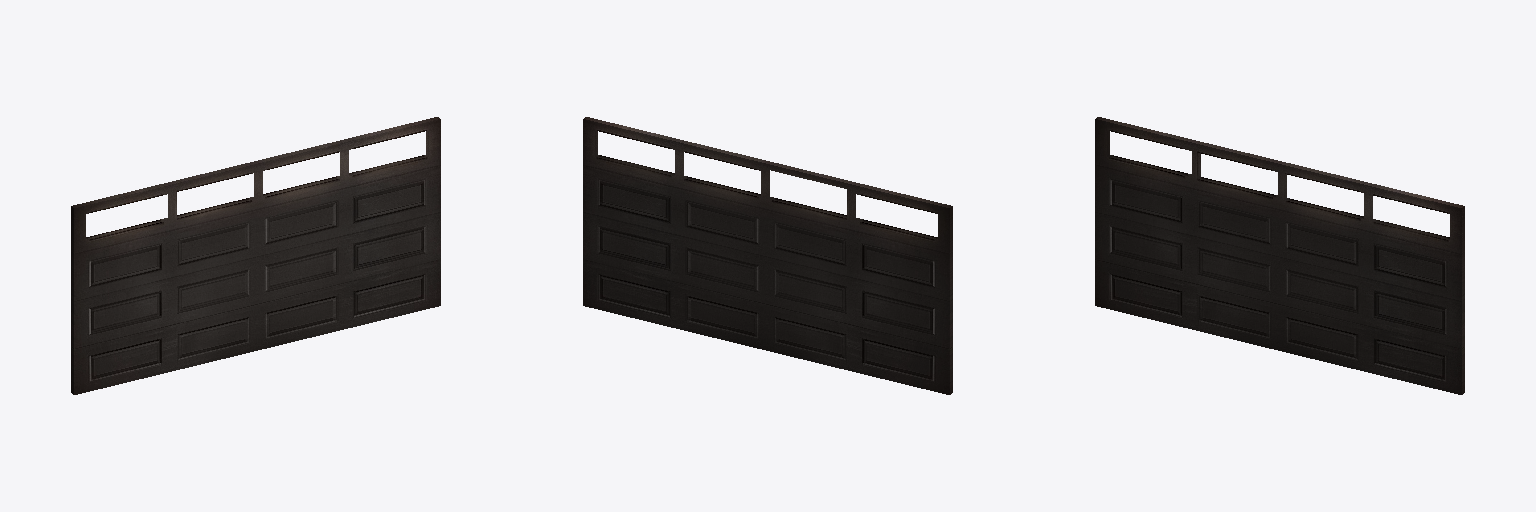
The picture shows the model from 3 angles: view 1: azimuth 30°, elevation 25°; view 2: azimuth 150°, elevation 25°; view 3: azimuth 330°, elevation 25°; orthographic projection.
Visible parts, largest first — view 1: polySurface60polySurface32; view 2: polySurface60polySurface32; view 3: polySurface60polySurface32.
Part boxes in pixels (left/top/right/bottom): polySurface60polySurface32: left=71, top=117, right=440, bottom=394; polySurface60polySurface32: left=583, top=117, right=952, bottom=394; polySurface60polySurface32: left=1095, top=117, right=1464, bottom=394.
Size of the model in its own units: 8.39 by 4.09 by 0.1255.
Materials: 1 (1 with a texture image).